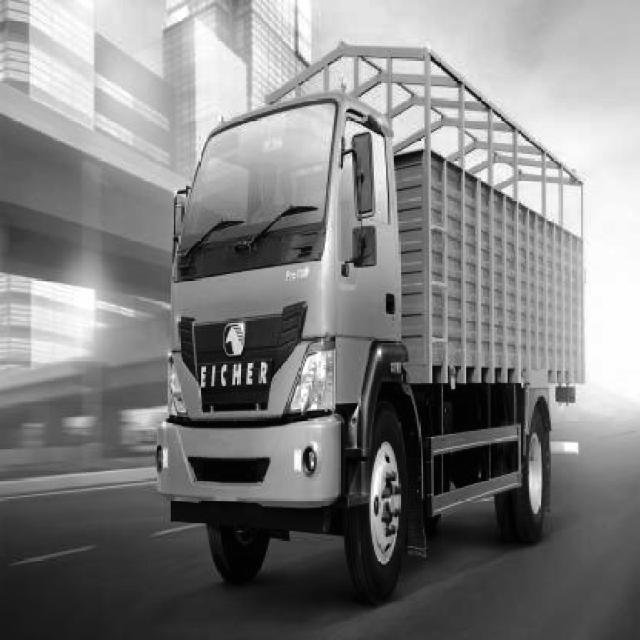HCV: (178, 46, 584, 566)
